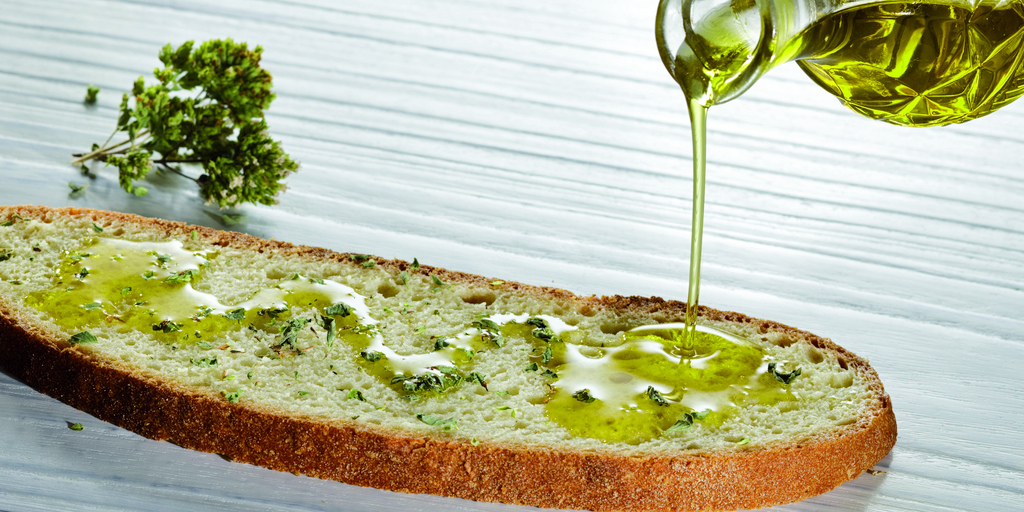slice of bread: (3, 238, 897, 509)
